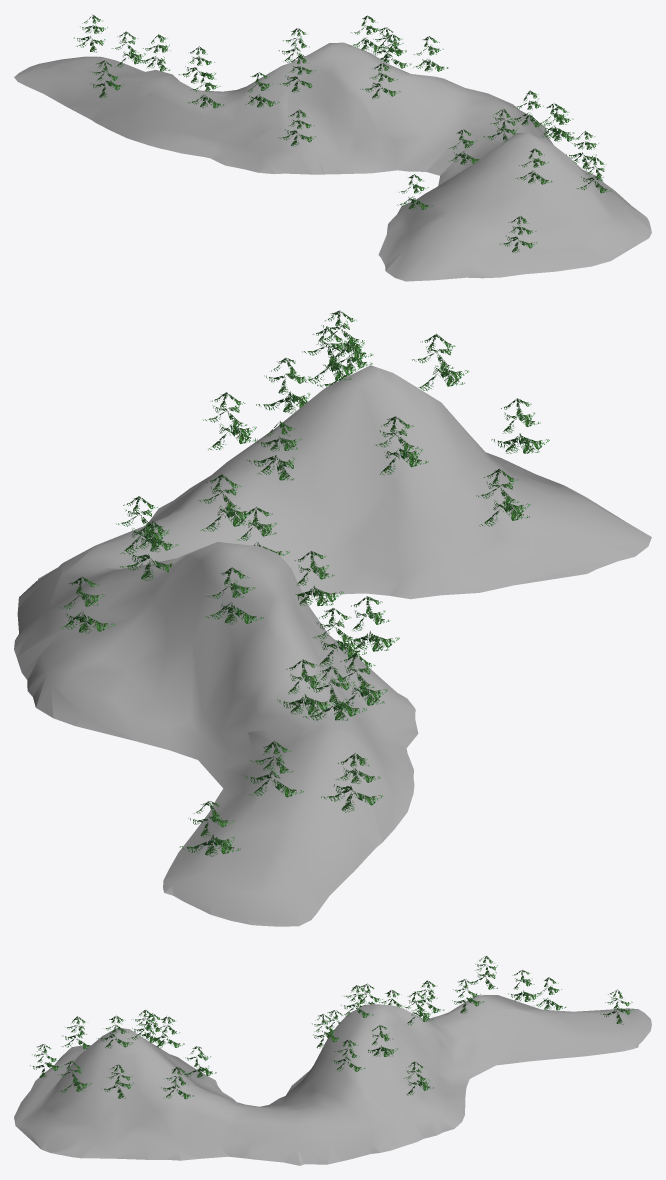
File: snow_island_09.fbx
The picture shows the model from 3 angles, top to bottom: view 1: azimuth 30°, elevation 25°; view 2: azimuth 150°, elevation 25°; view 3: azimuth 270°, elevation 25°; orthographic projection. The views are drawn at different scales.
Parts seen in each view (by area): view 1: snow_island_09; view 2: snow_island_09; view 3: snow_island_09.
Boxes of the visible parts, x1,y1,x2,y2 form: snow_island_09: (14, 15, 651, 281); snow_island_09: (14, 310, 651, 926); snow_island_09: (14, 956, 651, 1165).
Bounding box in the file's own units: 0.5208 × 0.182 × 0.8909.
2 materials, 1 textured.
